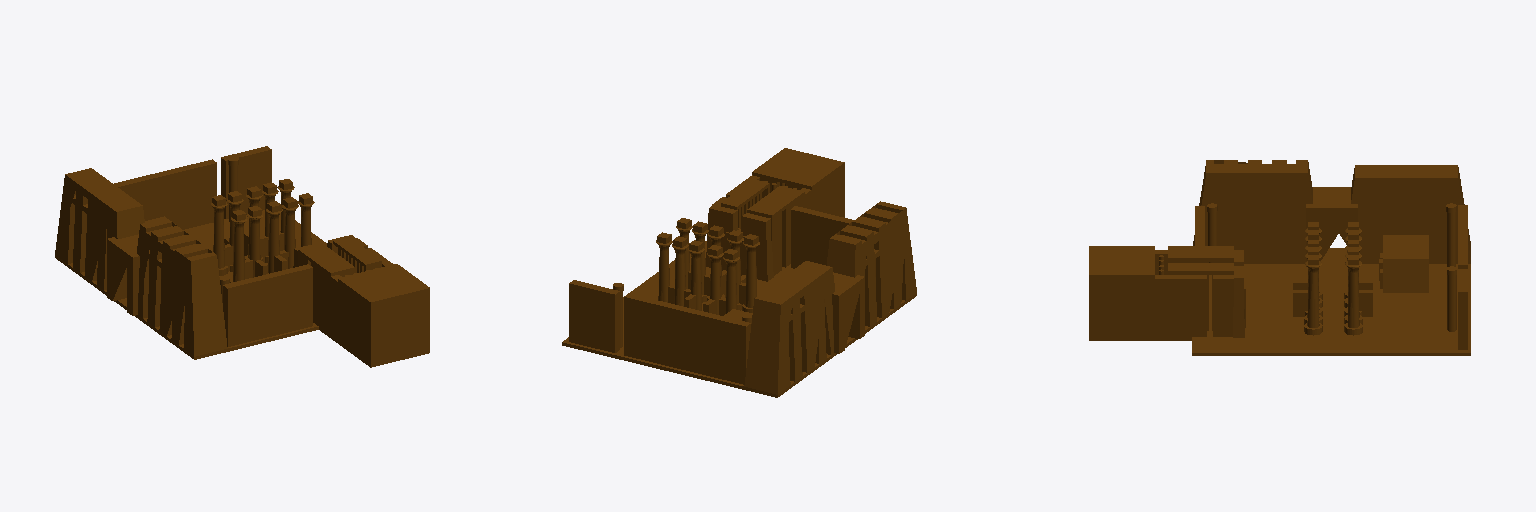
Rendered from Templo.obj.
3 views of the same model, side by side, from view 1: azimuth 30°, elevation 25°; view 2: azimuth 150°, elevation 25°; view 3: azimuth 270°, elevation 25° (orthographic).
Parts seen in each view (by area): view 1: Cube.061_Cube.017; view 2: Cube.061_Cube.017; view 3: Cube.061_Cube.017.
Part boxes in pixels (bbox=[...]): Cube.061_Cube.017: bbox=[55, 146, 429, 367]; Cube.061_Cube.017: bbox=[562, 148, 916, 397]; Cube.061_Cube.017: bbox=[1089, 160, 1470, 355].
Size of the model in its own units: 19.66 by 7.89 by 29.58.